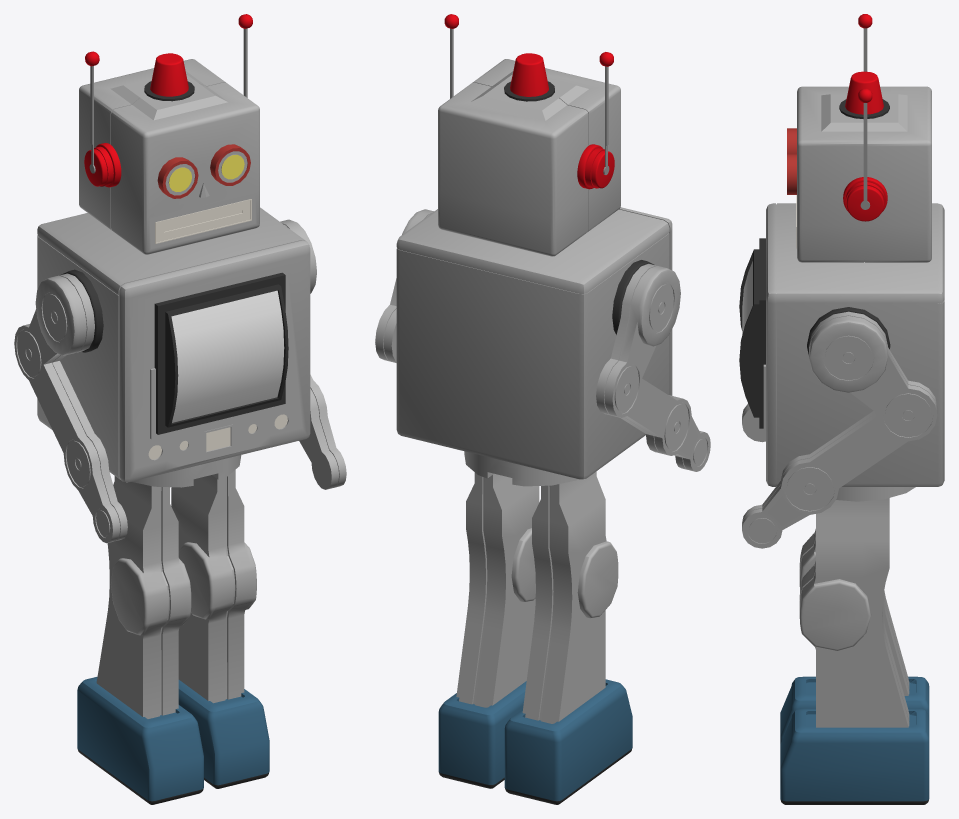
File: robot.fbx
The picture shows the model from 3 angles, left to right: view 1: azimuth 30°, elevation 25°; view 2: azimuth 150°, elevation 25°; view 3: azimuth 270°, elevation 25°; orthographic projection.
Visible parts, largest first — view 1: upper_body, head, right_leg, left_leg, right_arm, screen, left_arm; view 2: upper_body, head, right_leg, left_leg, right_arm, left_arm; view 3: upper_body, left_leg, head, left_arm, right_leg, right_arm, screen.
Part boxes in pixels (<box>): upper_body: <box>37,207,310,487</box>; head: <box>79,14,259,254</box>; right_leg: <box>77,476,203,804</box>; left_leg: <box>171,470,269,788</box>; right_arm: <box>14,269,127,543</box>; screen: <box>171,290,284,422</box>; left_arm: <box>280,219,346,489</box>; upper_body: <box>396,207,672,486</box>; head: <box>438,14,620,256</box>; right_leg: <box>504,471,632,804</box>; left_leg: <box>438,472,539,788</box>; right_arm: <box>596,260,710,471</box>; left_arm: <box>375,209,433,362</box>; upper_body: <box>739,203,944,501</box>; left_leg: <box>780,498,929,804</box>; head: <box>787,14,931,262</box>; left_arm: <box>742,307,937,548</box>; right_leg: <box>780,529,929,743</box>; right_arm: <box>742,403,765,442</box>; screen: <box>742,261,752,334</box>.
Bounding box in the file's own units: 99.3 × 283 × 72.64.
1 material, 1 textured.
